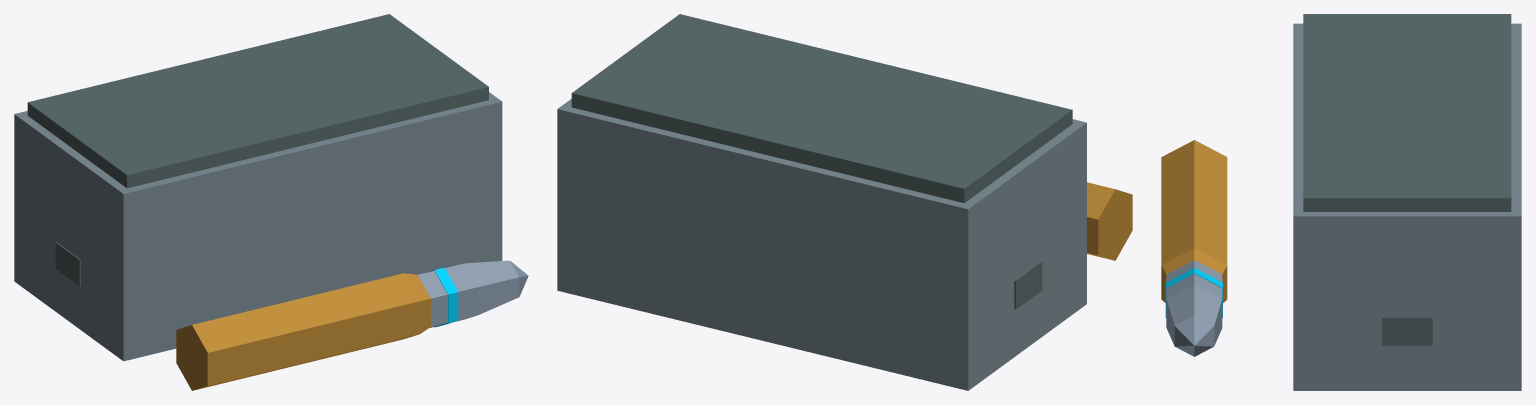
The model's file is ce_ammo_heavy_emp_c.obj.
3 renders of one model, left to right at view 1: azimuth 30°, elevation 25°; view 2: azimuth 150°, elevation 25°; view 3: azimuth 270°, elevation 25°, orthographic. The views are drawn at different scales.
Visible parts, largest first — view 1: ce_ammo_heavy_emp_c_0, ce_ammo_heavy_emp_c_1, ce_ammo_heavy_emp_c_3, ce_ammo_heavy_emp_c_8, ce_ammo_heavy_emp_c_7, ce_ammo_heavy_emp_c_5, ce_ammo_heavy_emp_c_2, ce_ammo_heavy_emp_c_4, ce_ammo_heavy_emp_c_6; view 2: ce_ammo_heavy_emp_c_0, ce_ammo_heavy_emp_c_1, ce_ammo_heavy_emp_c_3, ce_ammo_heavy_emp_c_2; view 3: ce_ammo_heavy_emp_c_0, ce_ammo_heavy_emp_c_1, ce_ammo_heavy_emp_c_3, ce_ammo_heavy_emp_c_8, ce_ammo_heavy_emp_c_2, ce_ammo_heavy_emp_c_9, ce_ammo_heavy_emp_c_4, ce_ammo_heavy_emp_c_7, ce_ammo_heavy_emp_c_5, ce_ammo_heavy_emp_c_6.
Boxes of the visible parts, x1,y1,x2,y2 form: ce_ammo_heavy_emp_c_0: (14,92,502,361); ce_ammo_heavy_emp_c_1: (27,14,488,188); ce_ammo_heavy_emp_c_3: (176,273,419,390); ce_ammo_heavy_emp_c_8: (465,260,519,314); ce_ammo_heavy_emp_c_7: (445,263,478,321); ce_ammo_heavy_emp_c_5: (418,270,447,327); ce_ammo_heavy_emp_c_2: (55,242,80,286); ce_ammo_heavy_emp_c_4: (404,273,430,333); ce_ammo_heavy_emp_c_6: (428,267,458,327); ce_ammo_heavy_emp_c_0: (557,99,1086,390); ce_ammo_heavy_emp_c_1: (571,14,1072,203); ce_ammo_heavy_emp_c_3: (1087,182,1132,260); ce_ammo_heavy_emp_c_2: (1014,261,1042,309); ce_ammo_heavy_emp_c_0: (1293,23,1521,390); ce_ammo_heavy_emp_c_1: (1303,14,1511,211); ce_ammo_heavy_emp_c_3: (1161,140,1227,264); ce_ammo_heavy_emp_c_8: (1166,284,1222,345); ce_ammo_heavy_emp_c_2: (1382,317,1432,345); ce_ammo_heavy_emp_c_9: (1174,315,1214,356); ce_ammo_heavy_emp_c_4: (1161,248,1227,302); ce_ammo_heavy_emp_c_7: (1166,273,1222,298); ce_ammo_heavy_emp_c_5: (1166,260,1222,282); ce_ammo_heavy_emp_c_6: (1165,268,1222,317).
Bounding box in the file's own units: 0.906 × 0.41 × 0.71.
